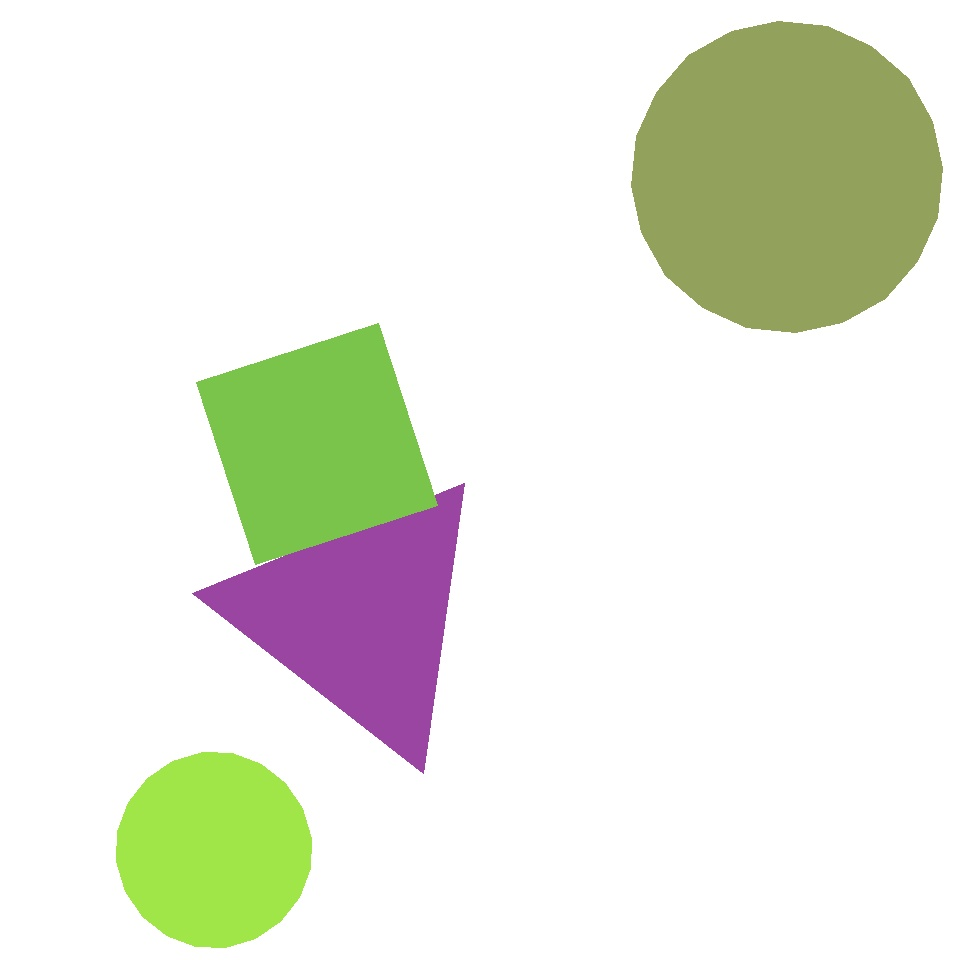circle: (224, 472, 496, 762)
square: (530, 616, 796, 884), (196, 324, 437, 564)
triangle: (10, 214, 352, 556), (632, 22, 942, 332), (480, 350, 740, 608), (117, 752, 312, 948)
